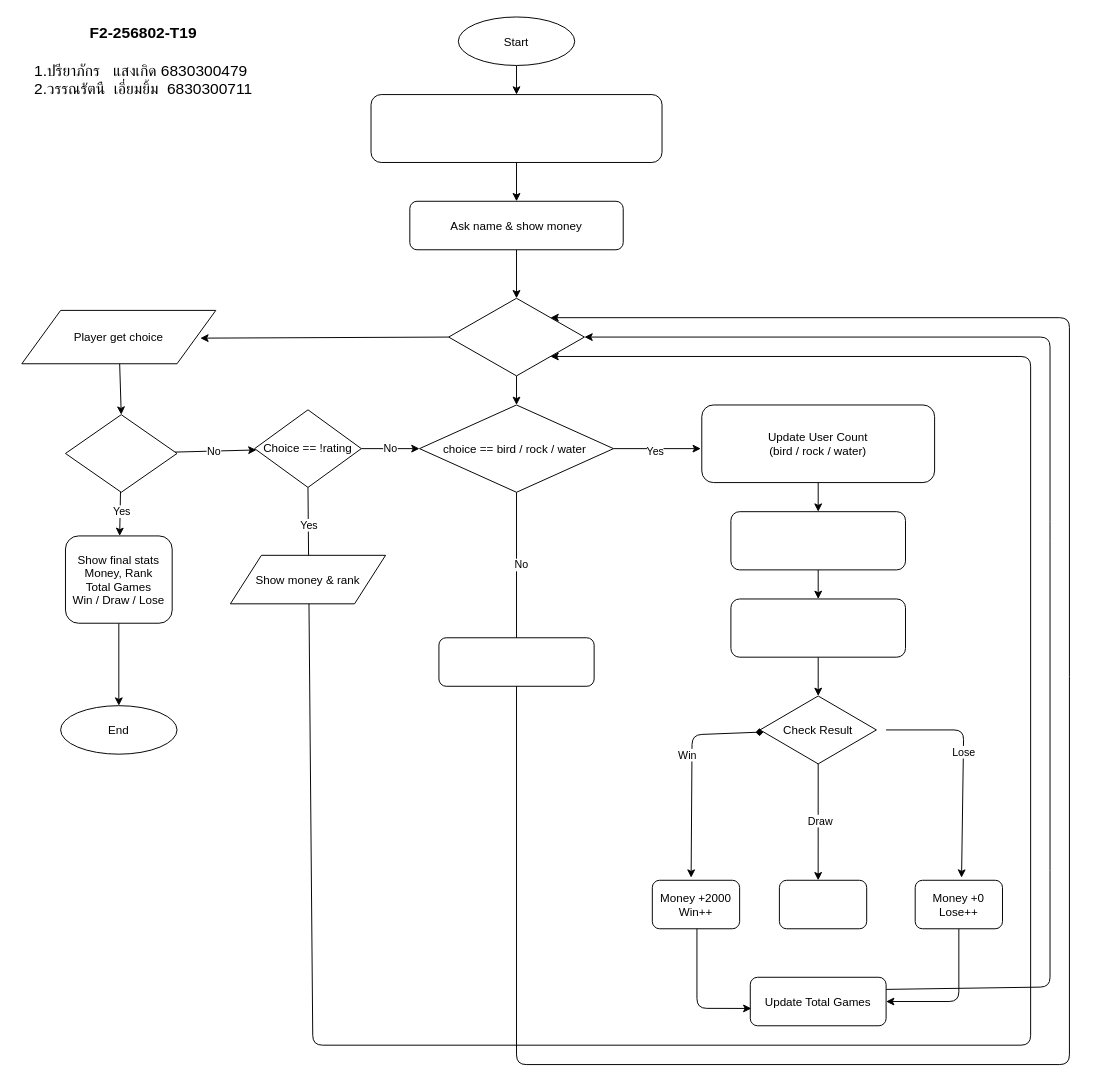
This 1094x1089 diagram has some shape labels left out. Here are the shapes that lost their labels. From the top down, the centre of each, then its label:
pixel 516 128: money, win, draw, lose = 0 birdCount, rockCount, waterCount = 0
pixel 516 336: while (true)
pixel 121 453: choice == !exit ?
pixel 817 540: getComputerChoice Analyze user stats
pixel 817 627: Compare Player vs Computer
pixel 516 661: Enter input
pixel 822 904: Money +1000 Draw++
